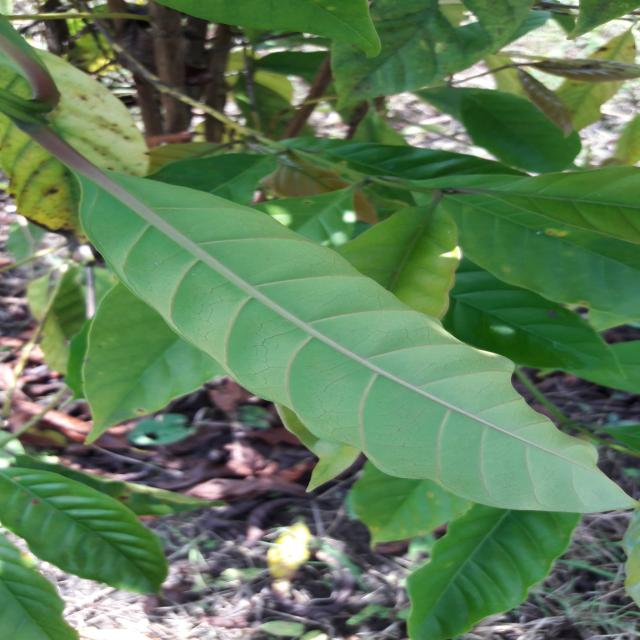Sanas: (32, 132, 639, 517)
